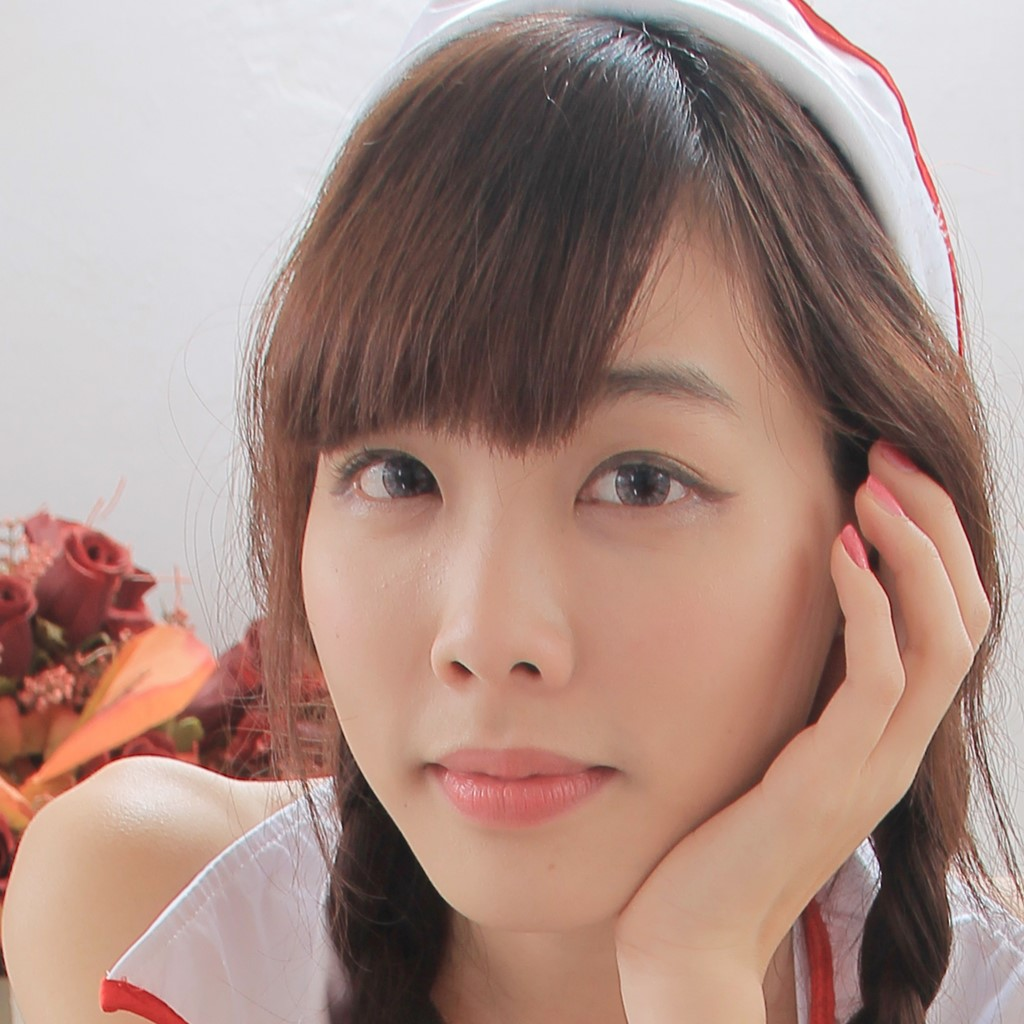sin_mascara: (283, 128, 933, 923)
